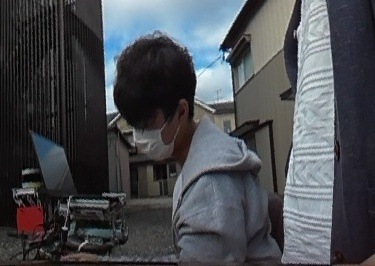person: (106, 34, 278, 266)
